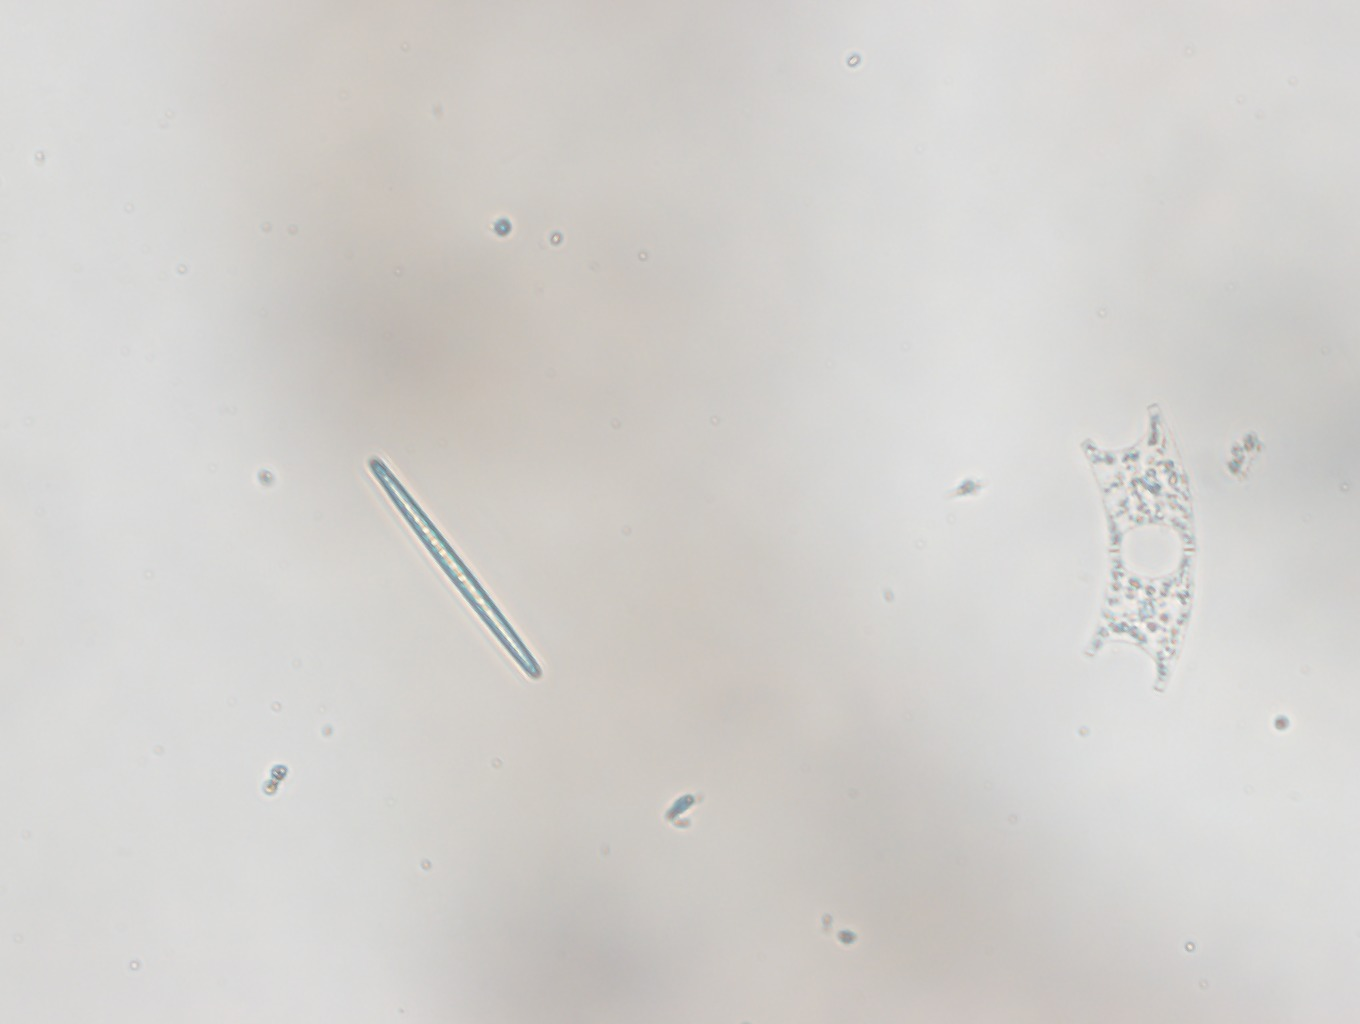eucampia: (1060, 411, 1209, 696)
thalassionema frauenfeldii: (331, 453, 548, 689)
